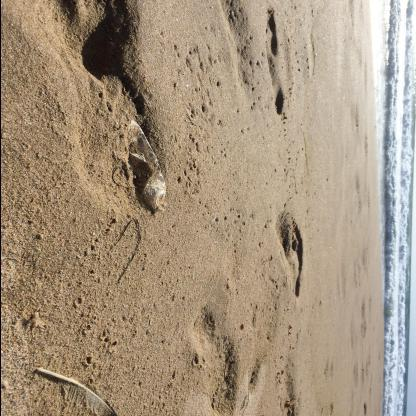diger: (130, 121, 166, 212)
